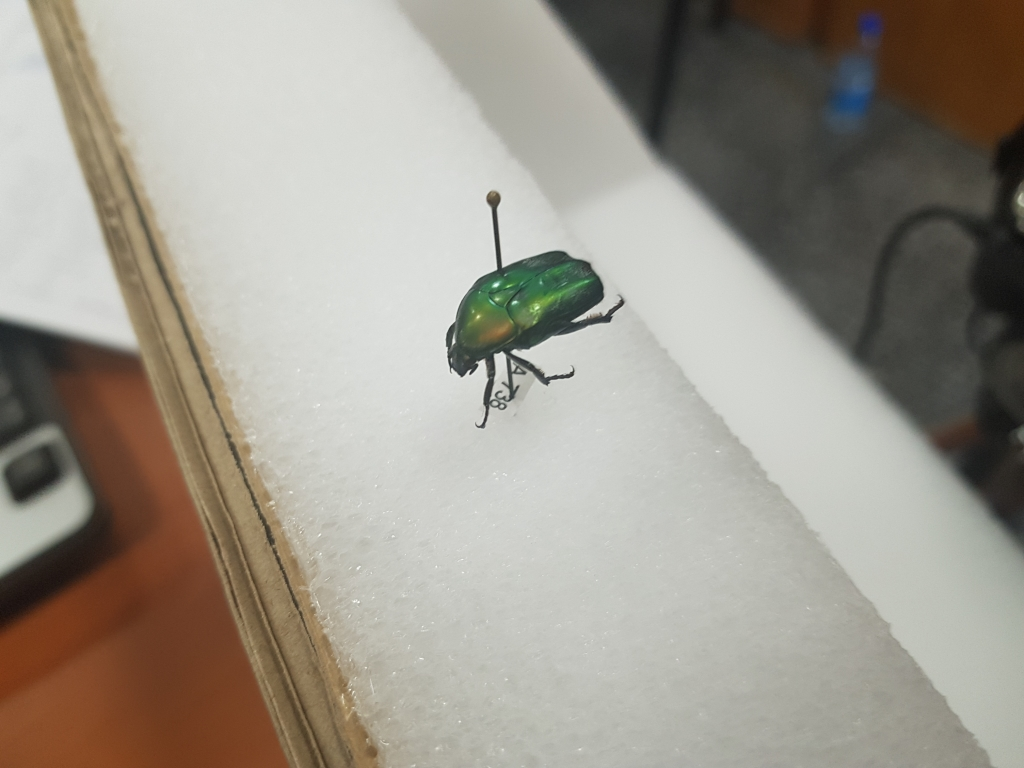Protaetia_cuprea_ignicollis: (426, 243, 631, 438)
